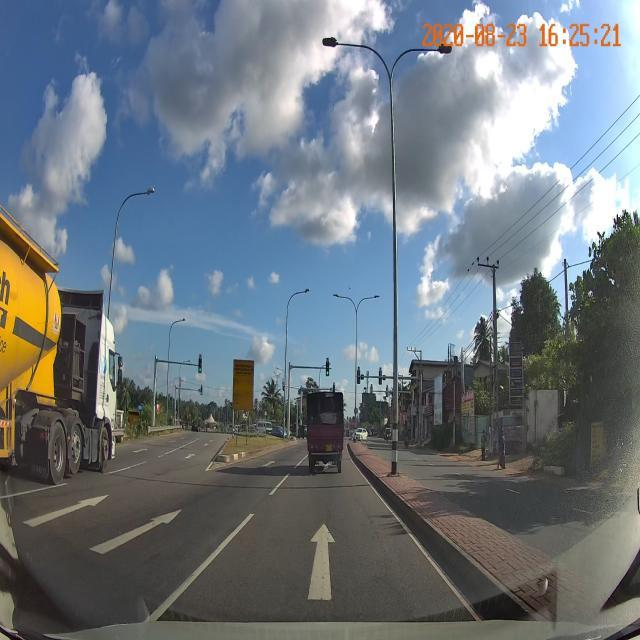forward: (161, 508, 470, 604)
